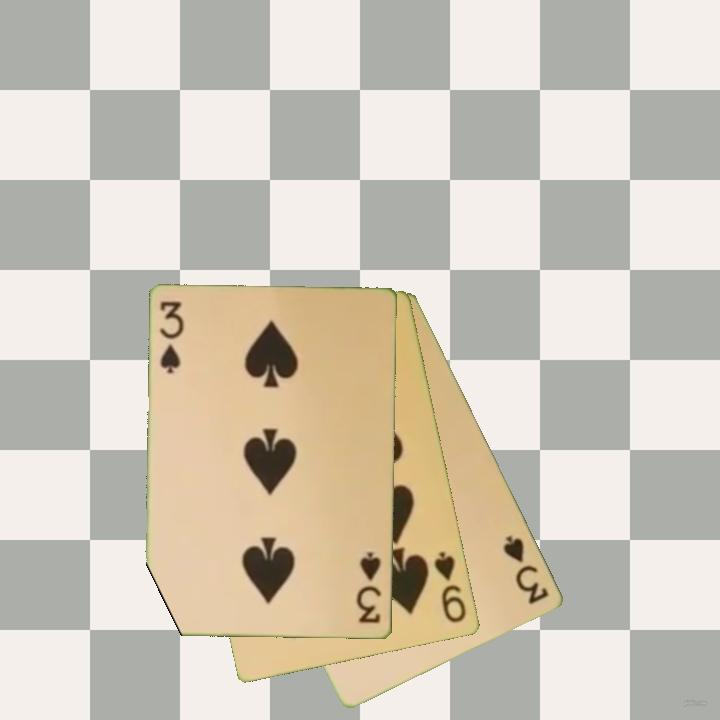3s: (500, 532, 553, 608), (354, 548, 384, 627), (157, 298, 187, 376)
9s: (430, 548, 470, 626)
